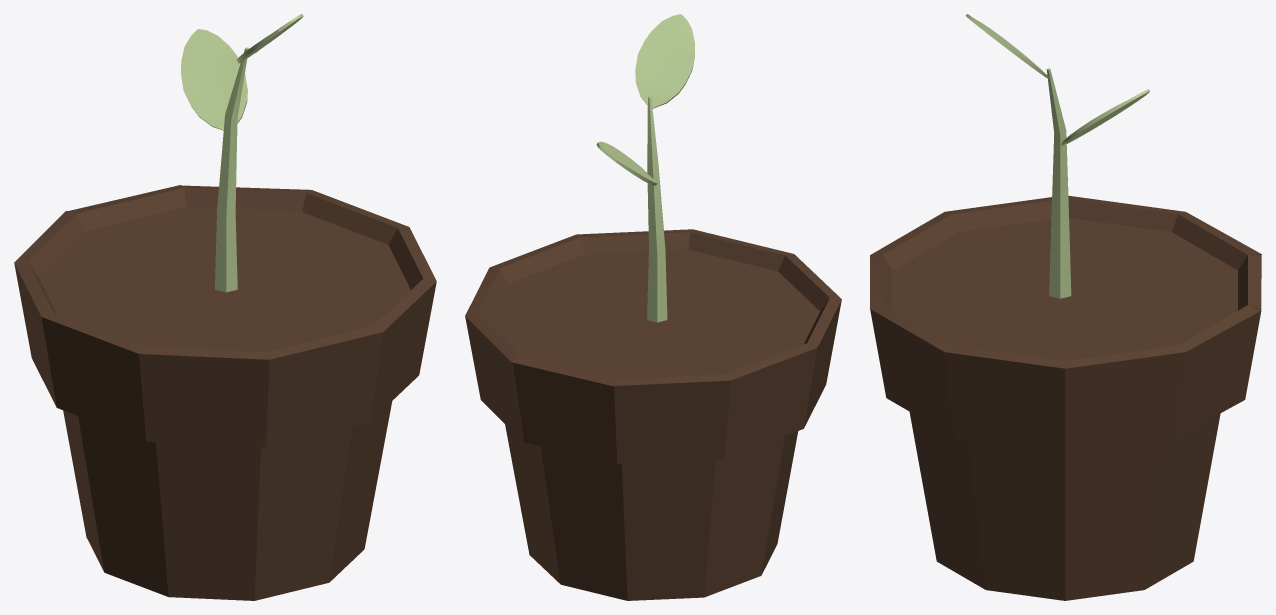
File: tree sapling.fbx
3 renders of one model, left to right at view 1: azimuth 30°, elevation 25°; view 2: azimuth 150°, elevation 25°; view 3: azimuth 270°, elevation 25°, orthographic. The views are drawn at different scales.
Parts seen in each view (by area): view 1: pCylinder3, pasted__pCube2, pCylinder4; view 2: pCylinder3, pCube2, pCylinder4, pasted__pCube2; view 3: pCylinder3, pCylinder4, pasted__pCube2, pCube2.
Boxes of the visible parts, <box> form: pCylinder3: <box>14,185,436,600</box>; pasted__pCube2: <box>181,29,247,130</box>; pCylinder4: <box>215,47,248,292</box>; pCylinder3: <box>465,229,841,600</box>; pCube2: <box>635,14,694,108</box>; pCylinder4: <box>647,96,667,322</box>; pasted__pCube2: <box>596,141,657,185</box>; pCylinder3: <box>870,195,1261,600</box>; pCylinder4: <box>1046,68,1071,298</box>; pasted__pCube2: <box>1061,89,1149,145</box>; pCube2: <box>966,14,1050,79</box>.
Bounding box in the file's own units: 3.57 × 5.17 × 3.41.
